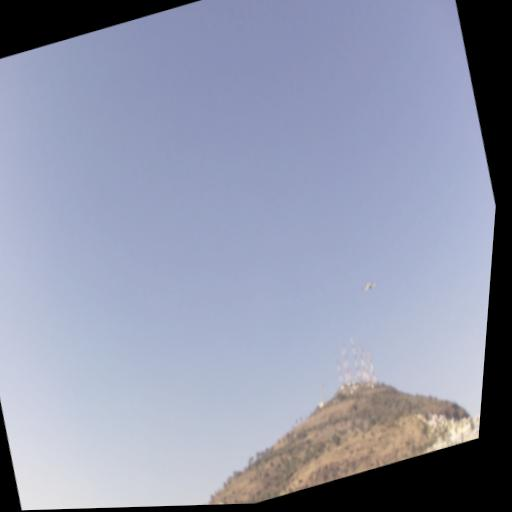drones: (360, 278, 379, 294)
